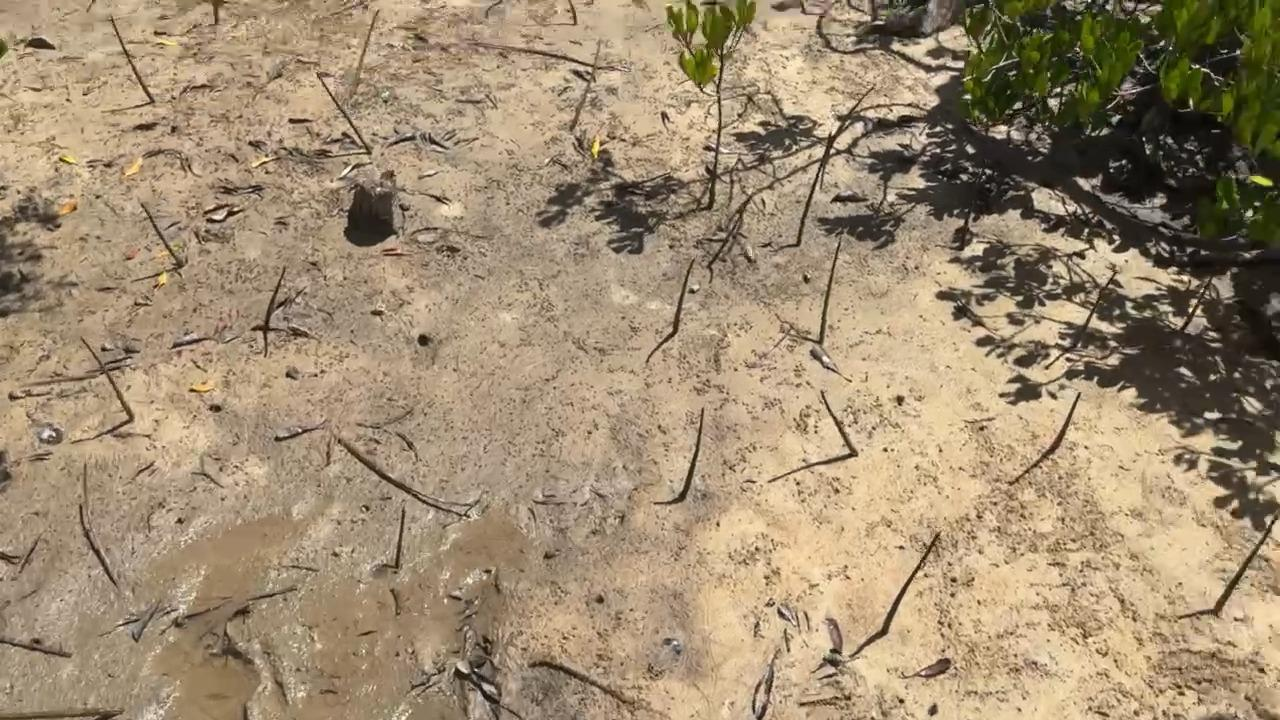Tree: (663, 0, 758, 211), (1213, 513, 1280, 615), (880, 530, 943, 634), (77, 335, 135, 420), (81, 463, 121, 586), (315, 71, 372, 154), (795, 130, 835, 247), (109, 15, 156, 103), (826, 86, 876, 159), (568, 37, 601, 133), (139, 201, 186, 268), (817, 236, 843, 344), (819, 389, 858, 457), (350, 9, 380, 97), (1080, 271, 1118, 335), (679, 407, 704, 497), (1179, 273, 1215, 332), (671, 256, 697, 333), (1049, 392, 1081, 452), (263, 265, 289, 330), (0, 707, 124, 720), (568, 0, 578, 26), (211, 0, 221, 23)
